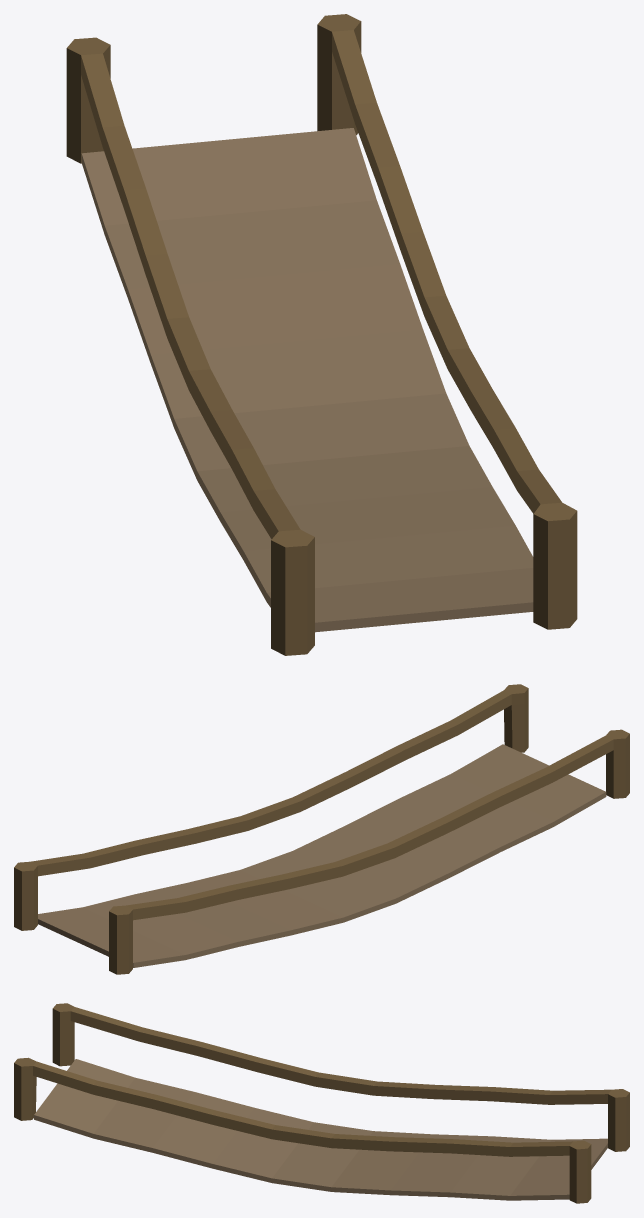
File: nivel2 escenario puente.fbx
The picture shows the model from 3 angles, top to bottom: view 1: azimuth 30°, elevation 25°; view 2: azimuth 150°, elevation 25°; view 3: azimuth 270°, elevation 25°; orthographic projection. The views are drawn at different scales.
Visible parts, largest first — view 1: puente; view 2: puente; view 3: puente.
Boxes of the visible parts, x1,y1,x2,y2 form: puente: [66, 14, 577, 655]; puente: [14, 684, 629, 974]; puente: [14, 1003, 629, 1203].
Size of the model in its own units: 1449 by 377 by 2579.
